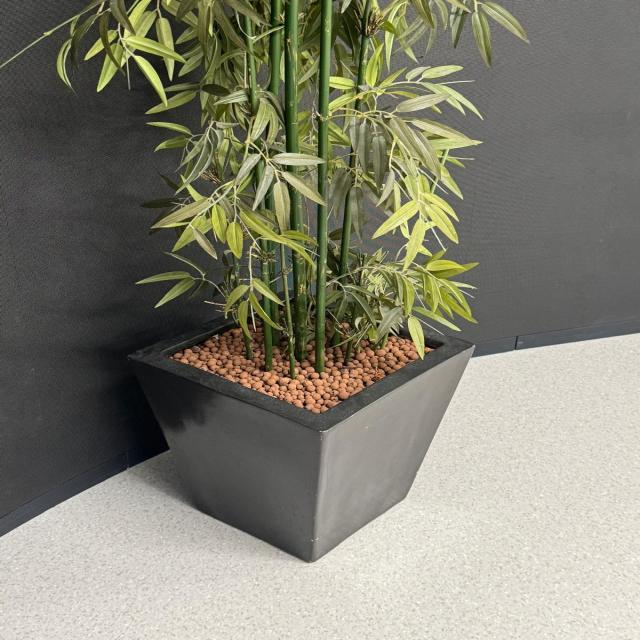Pot: (126, 288, 478, 565)
